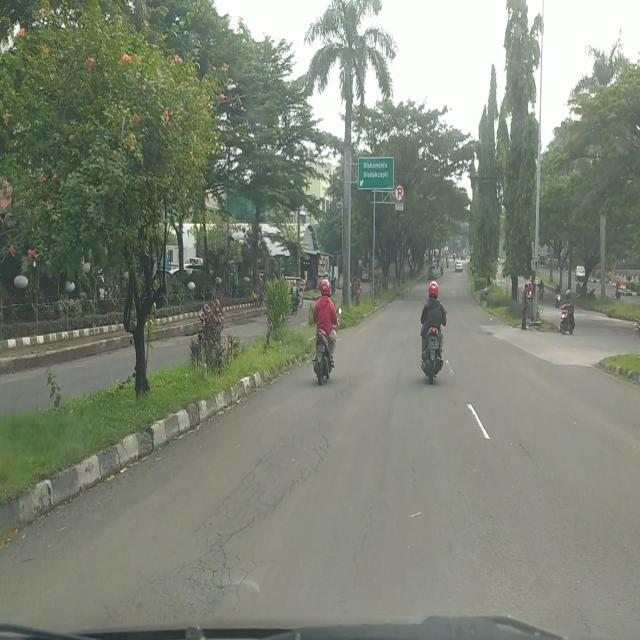Drain Hole: (163, 424, 329, 609)
